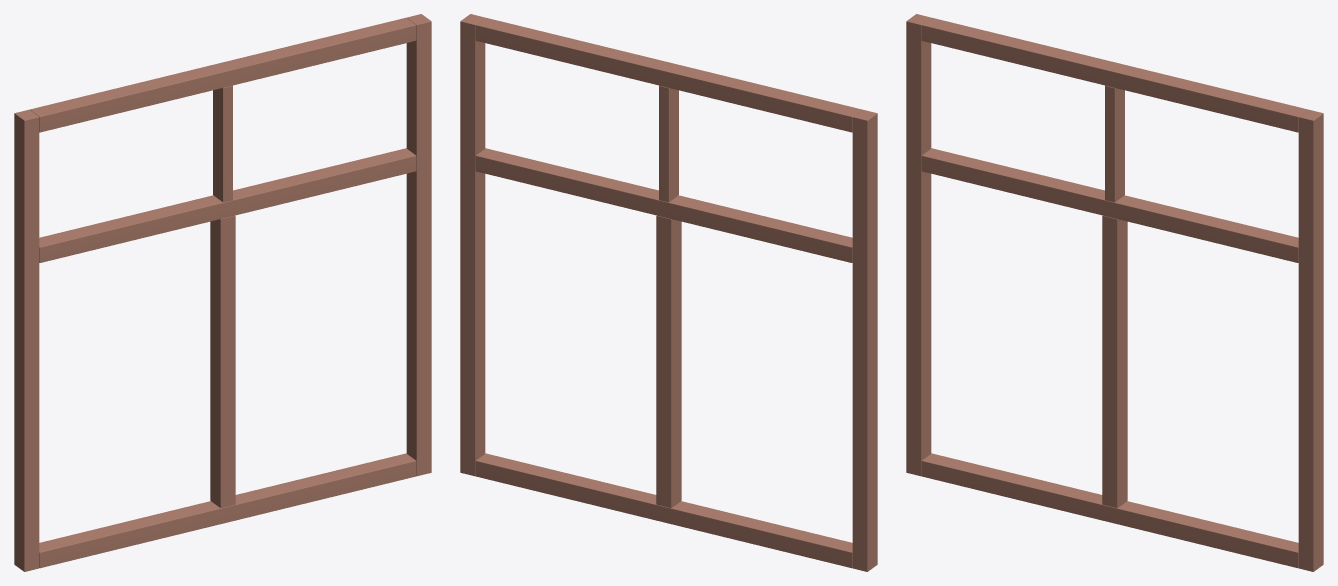
File: window-frame.glb
3 renders of one model, left to right at view 1: azimuth 30°, elevation 25°; view 2: azimuth 150°, elevation 25°; view 3: azimuth 330°, elevation 25°, orthographic.
Parts seen in each view (by area): view 1: window-frame; view 2: window-frame; view 3: window-frame.
Boxes of the visible parts, x1,y1,x2,y2 form: window-frame: [14, 14, 431, 571]; window-frame: [460, 14, 877, 571]; window-frame: [906, 14, 1323, 571].
Bounding box in the file's own units: 1.6 × 1.69 × 0.07.
